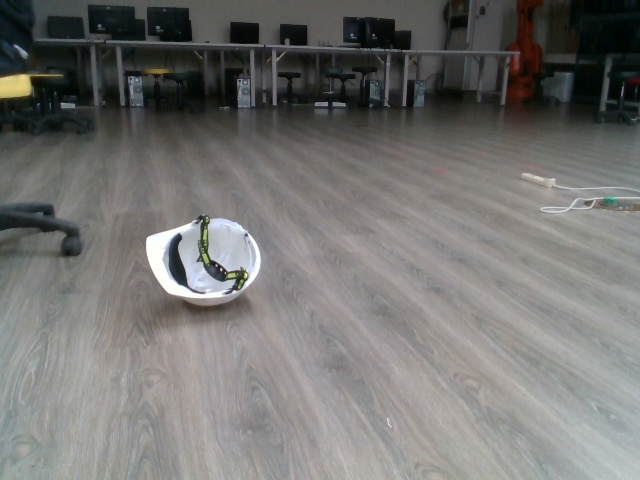helmet: (141, 211, 269, 310)
